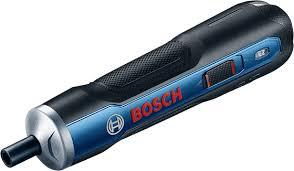screwdriver: (0, 0, 293, 169)
